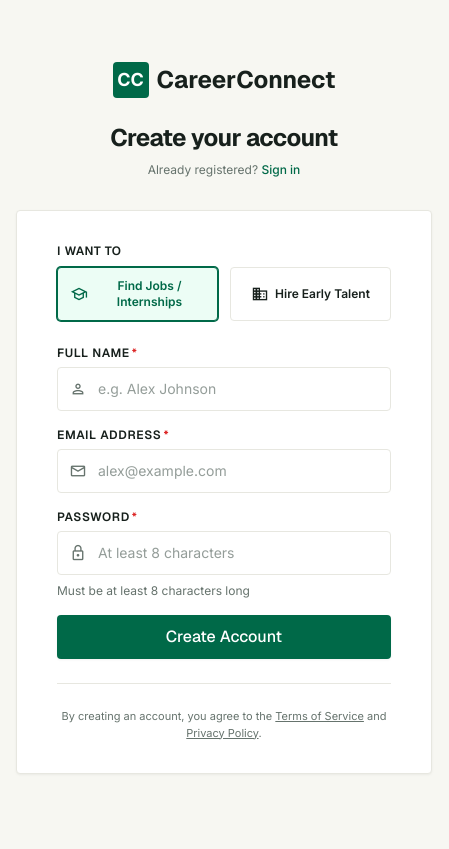
Test: RegisterPage Integration › validates empty name or short password
Click the button "Create Account" at x=224, y=637, box [57,615,391,659]
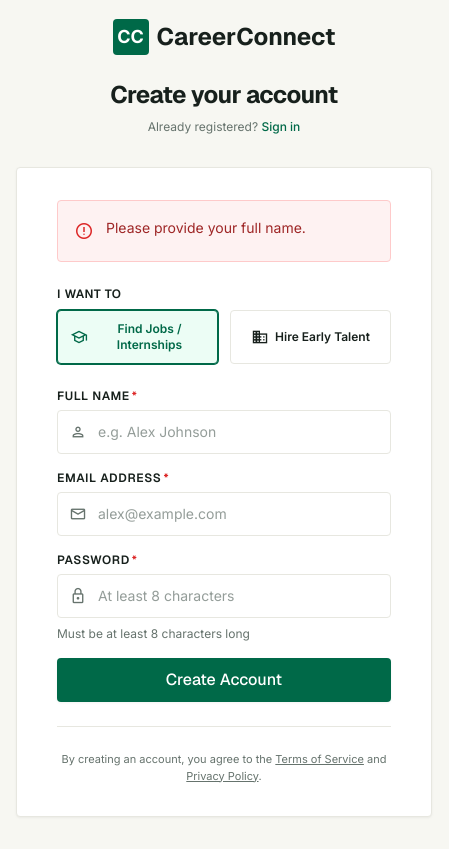
Check: the text "Please provide your full name." is shown, box [106,219,306,236]
Type "Alex Johnson" into the field labelled "Full Name*" at x=224, y=432, box [57,410,391,454]
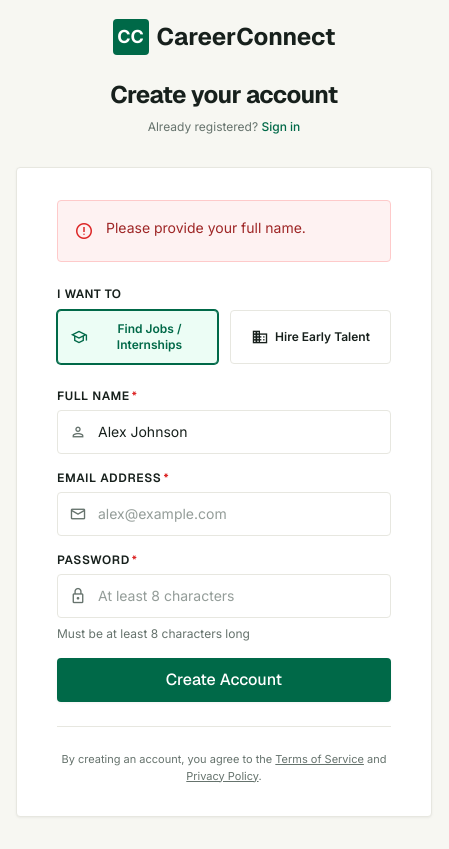
Type "alex@test.com" into the field labelled "Email Address*" at x=224, y=514, box [57,492,391,536]
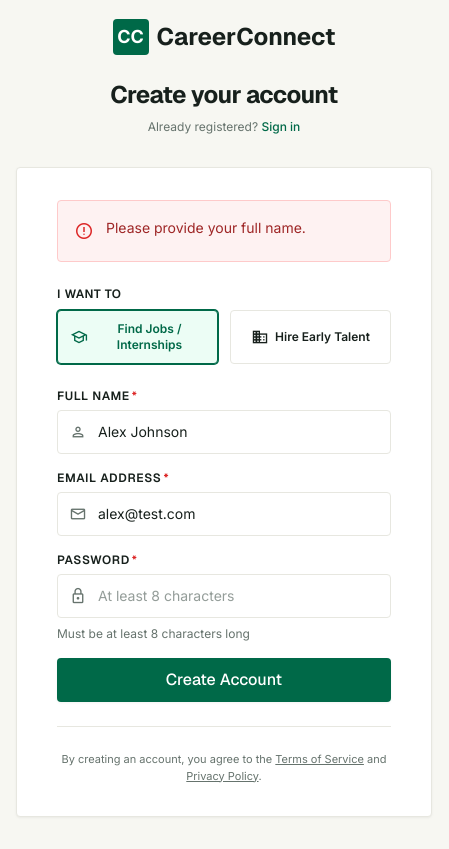
Type "short" into the password field labelled "Password*" at x=224, y=596, box [57,574,391,618]
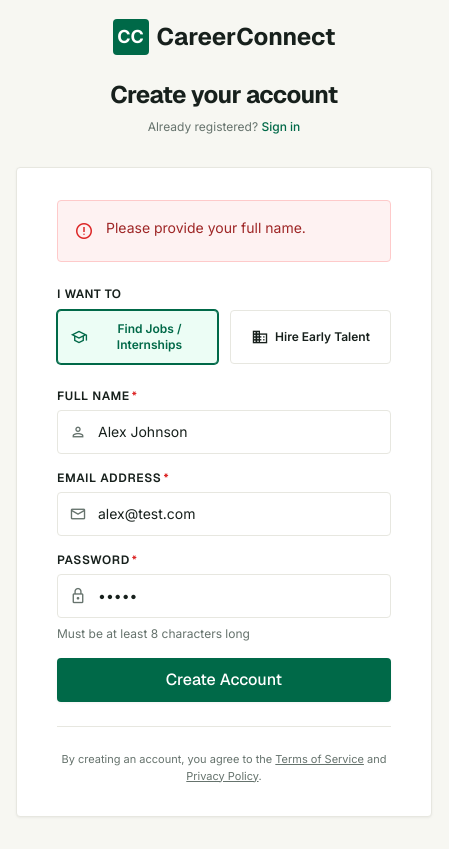
Click the button "Create Account" at x=224, y=680, box [57,658,391,702]
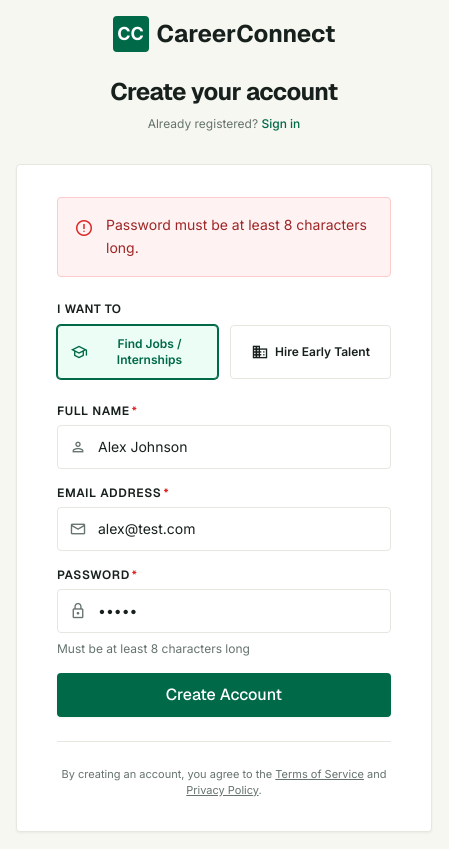
Check: the text "Password must be at least 8 characters long." is shown, box [106,214,374,260]
